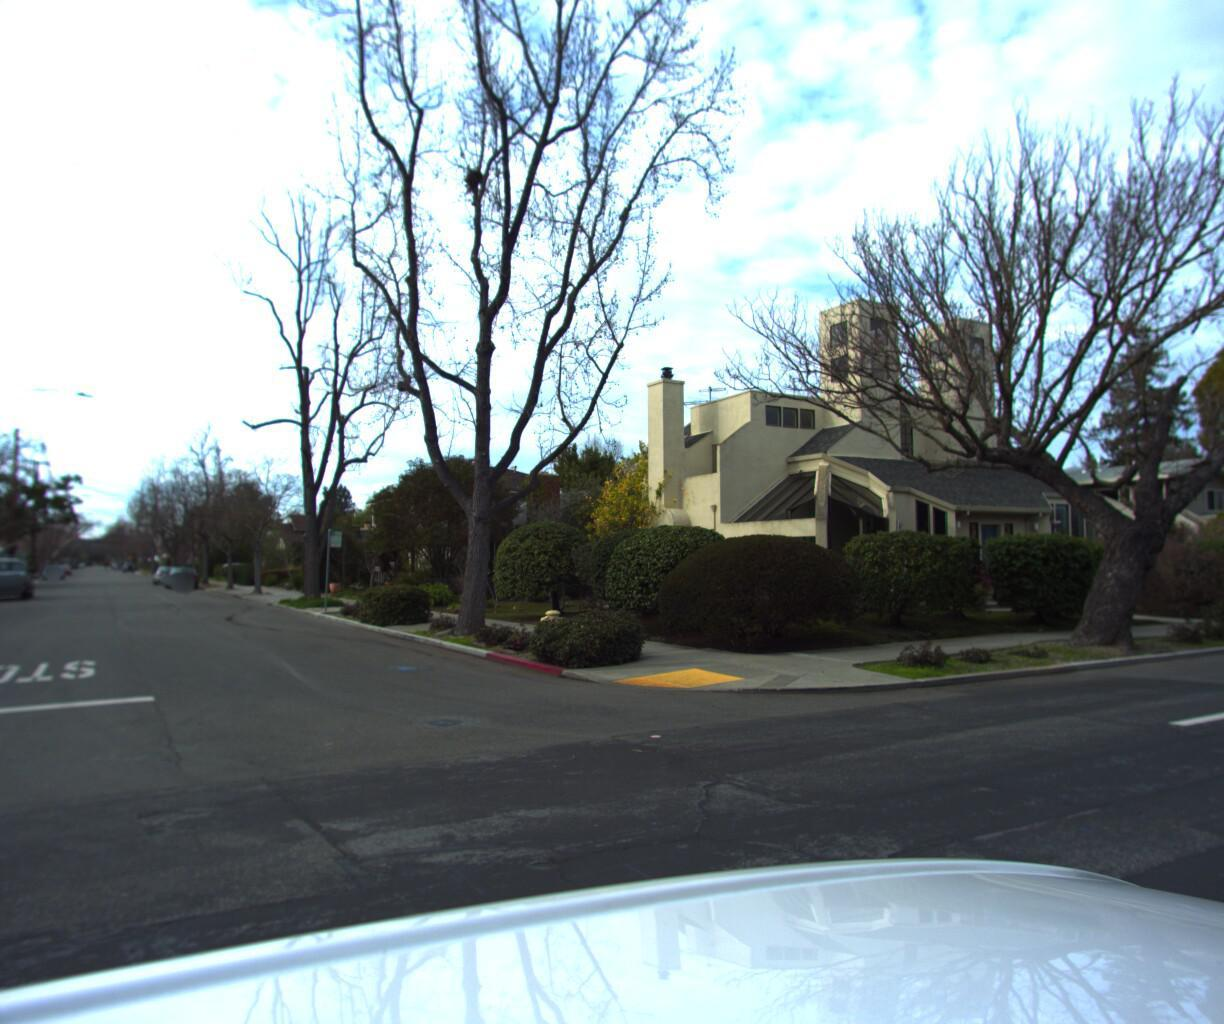car: (0, 551, 42, 603), (213, 561, 270, 580), (165, 563, 205, 587), (154, 562, 183, 583)
